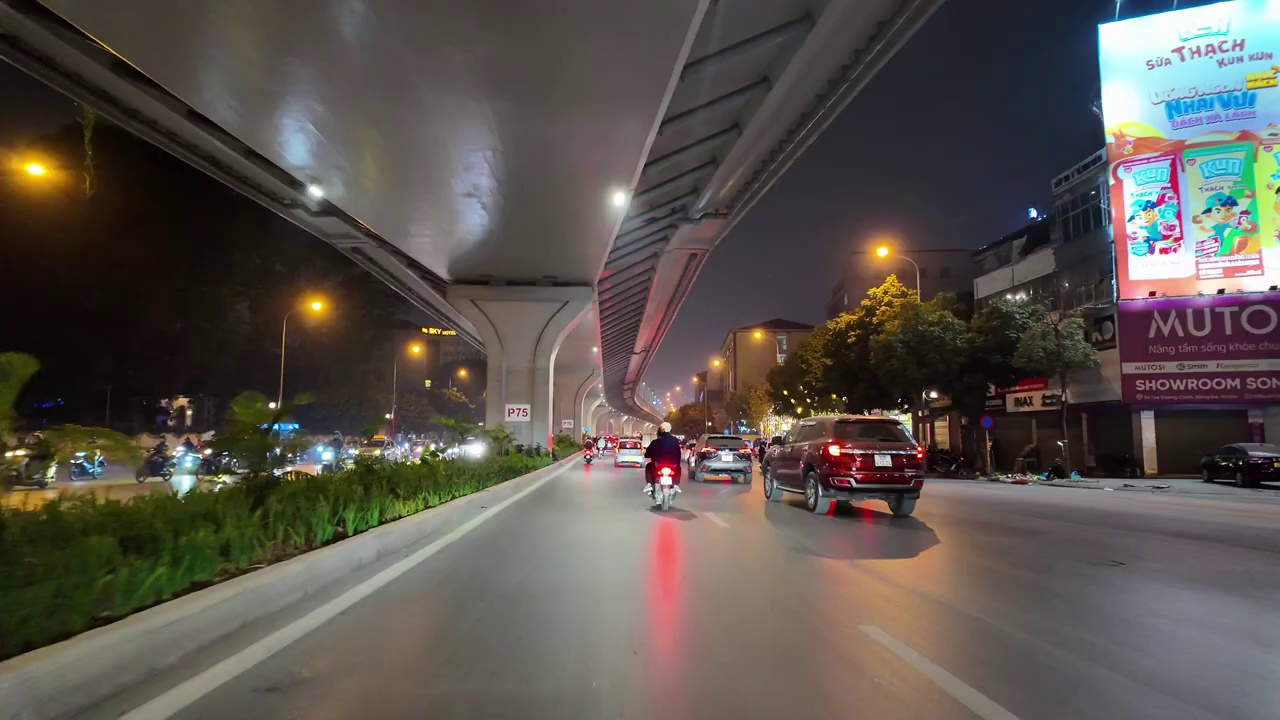acesa: (12, 153, 61, 191), (865, 237, 899, 268), (604, 185, 633, 218), (300, 293, 332, 321), (744, 326, 769, 349), (403, 339, 428, 362)
